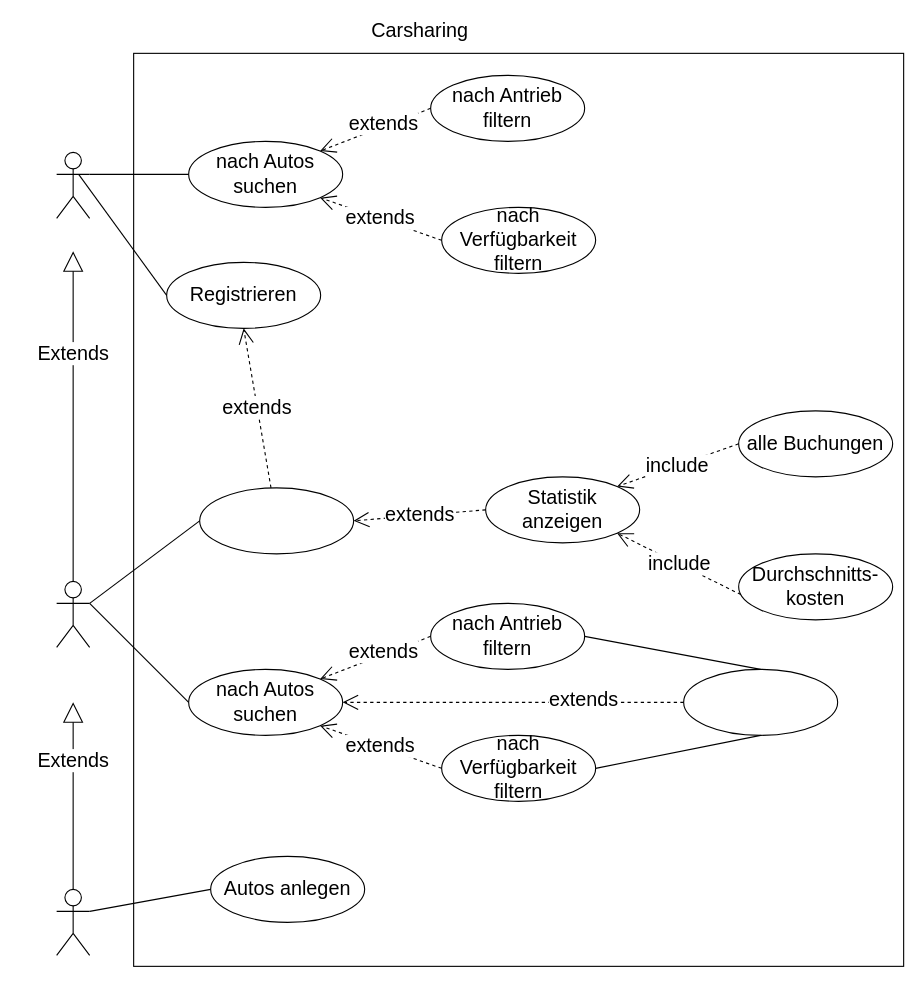
Image size: 923x1005. Some labels were removed from this diagram. Each missing label, with the centre of its shape:
"Admin" belongs at pixel 73 921.
"anmelden" belongs at pixel 276 520.
"Auto buchen" belongs at pixel 760 701.
"Kunde" belongs at pixel 73 184.
"Registrierter Kunde" belongs at pixel 73 613.
